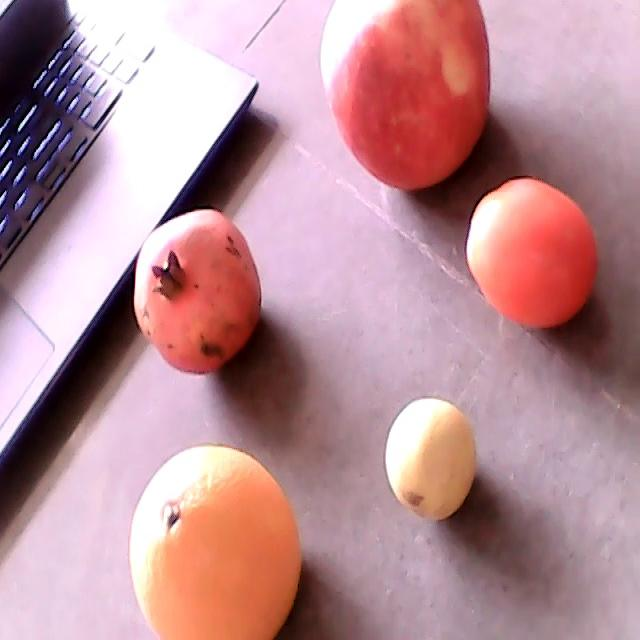apple: (323, 1, 489, 191)
lemon: (383, 395, 478, 520)
orange: (128, 446, 302, 639)
pomegranate: (135, 208, 262, 374)
tomato: (468, 178, 599, 327)
